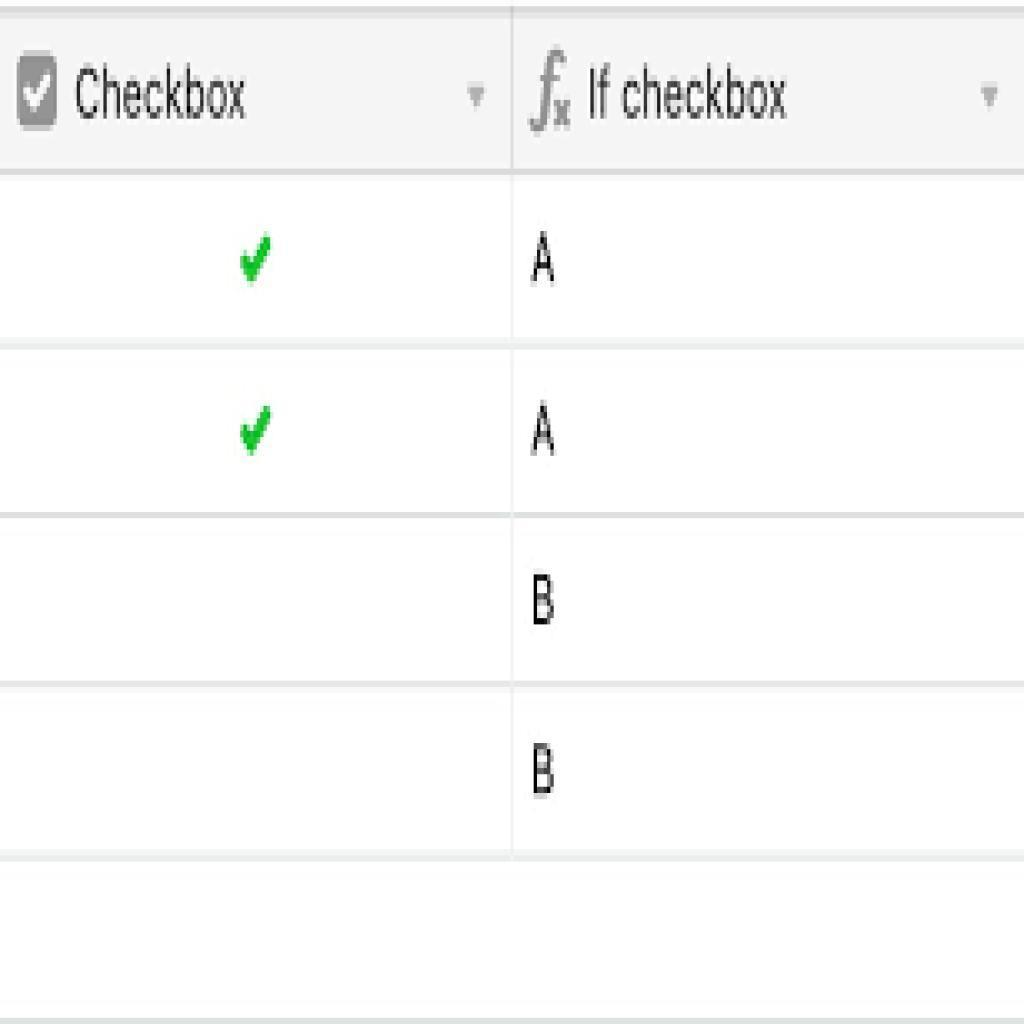checkbox: (13, 45, 63, 139)
dropdown: (515, 8, 1024, 171), (1, 9, 513, 170)
